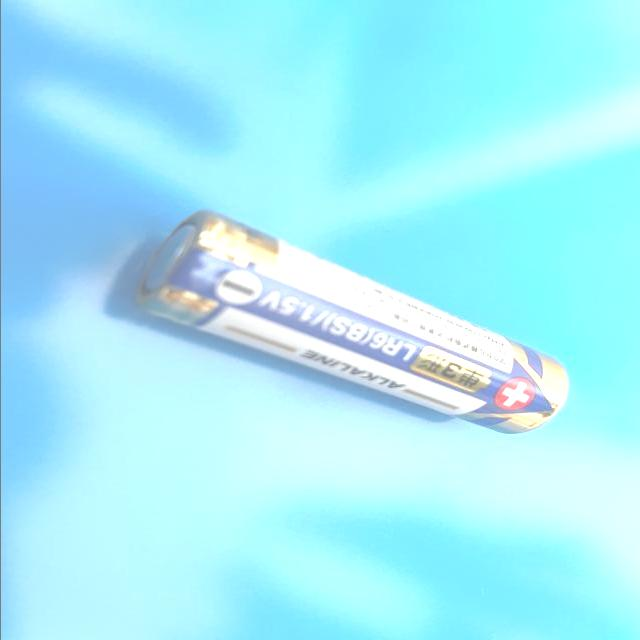AA: (132, 208, 569, 436)
